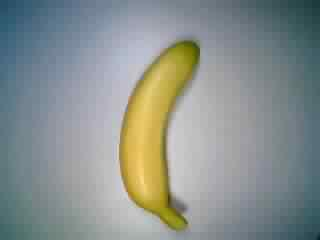banana: (110, 38, 209, 236)
